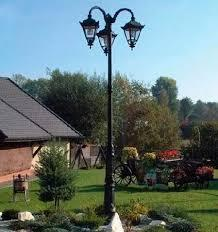Animal: (77, 0, 150, 218)
